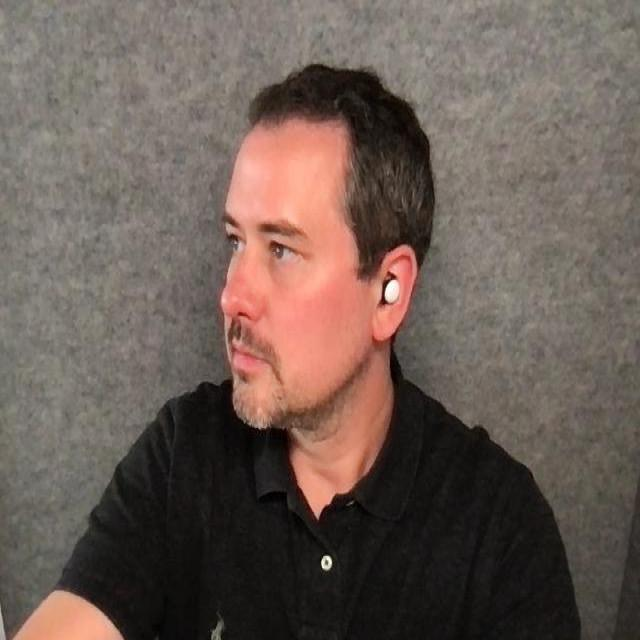face: (218, 63, 435, 440)
